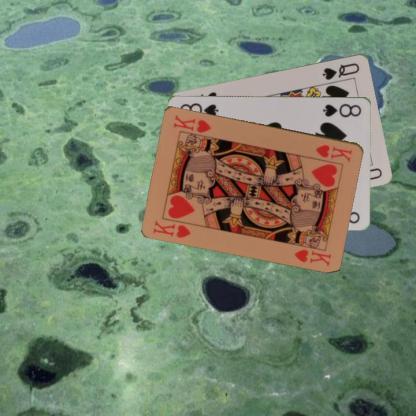8s: (321, 100, 363, 118)
Kh: (151, 217, 193, 239), (313, 141, 354, 163)
Qs: (320, 60, 361, 81)
